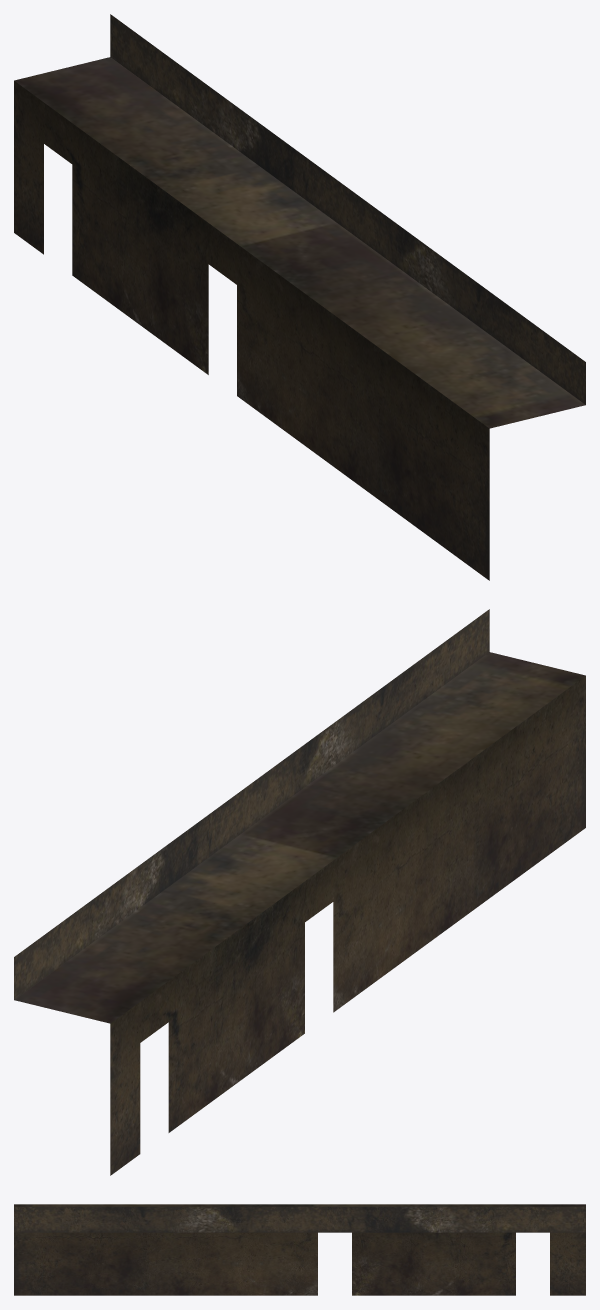
Rendered from RoofWall_01.FBX.
3 renders of one model, top to bottom at view 1: azimuth 30°, elevation 25°; view 2: azimuth 150°, elevation 25°; view 3: azimuth 270°, elevation 25°, orthographic. The views are drawn at different scales.
Parts seen in each view (by area): view 1: RoofWall_01; view 2: RoofWall_01; view 3: RoofWall_01.
Boxes of the visible parts, left/top/right/bottom form: RoofWall_01: left=14, top=14, right=585, bottom=580; RoofWall_01: left=14, top=609, right=585, bottom=1175; RoofWall_01: left=14, top=1204, right=585, bottom=1295.
Size of the model in its own units: 247 by 478 by 2109.
